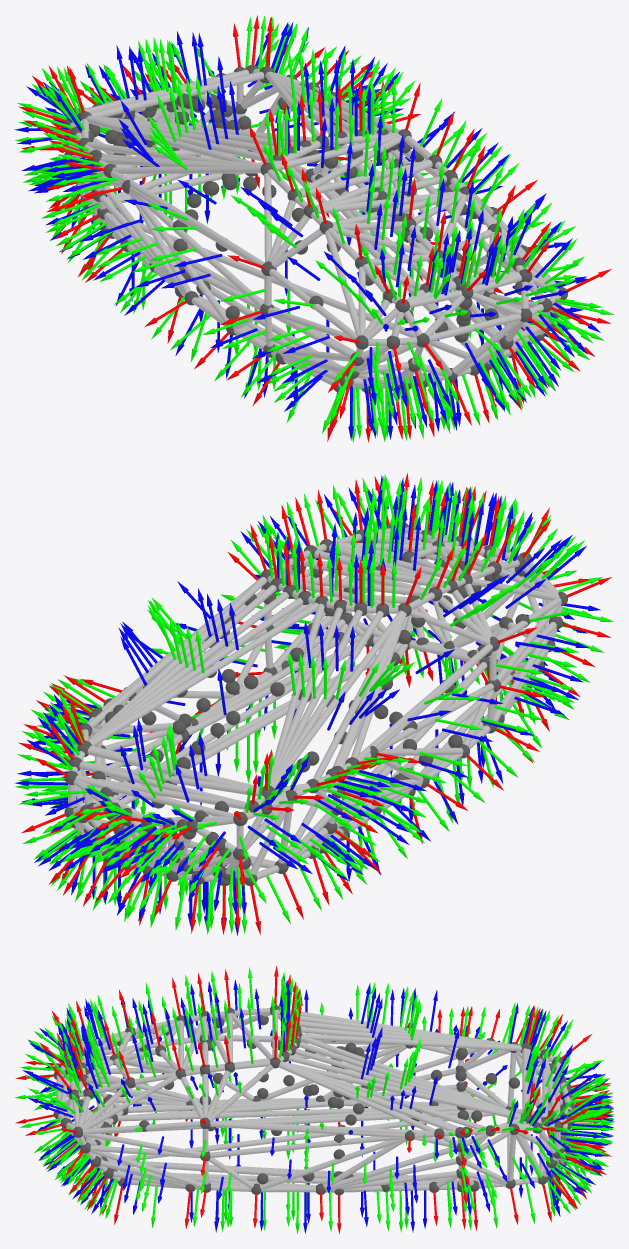
File: ils_car2.gltf
3 views of the same model, one above another, from view 1: azimuth 30°, elevation 25°; view 2: azimuth 150°, elevation 25°; view 3: azimuth 270°, elevation 25° (orthographic). The views are drawn at different scales.
Bounding box in the file's own units: 0.5454 × 0.3746 × 1.06.
